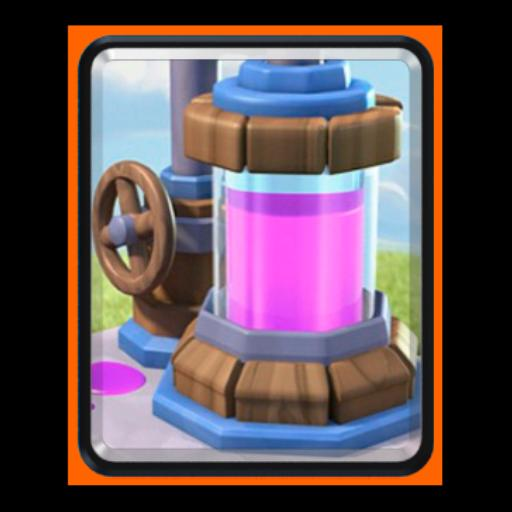elixir-collector: (90, 55, 414, 451)
